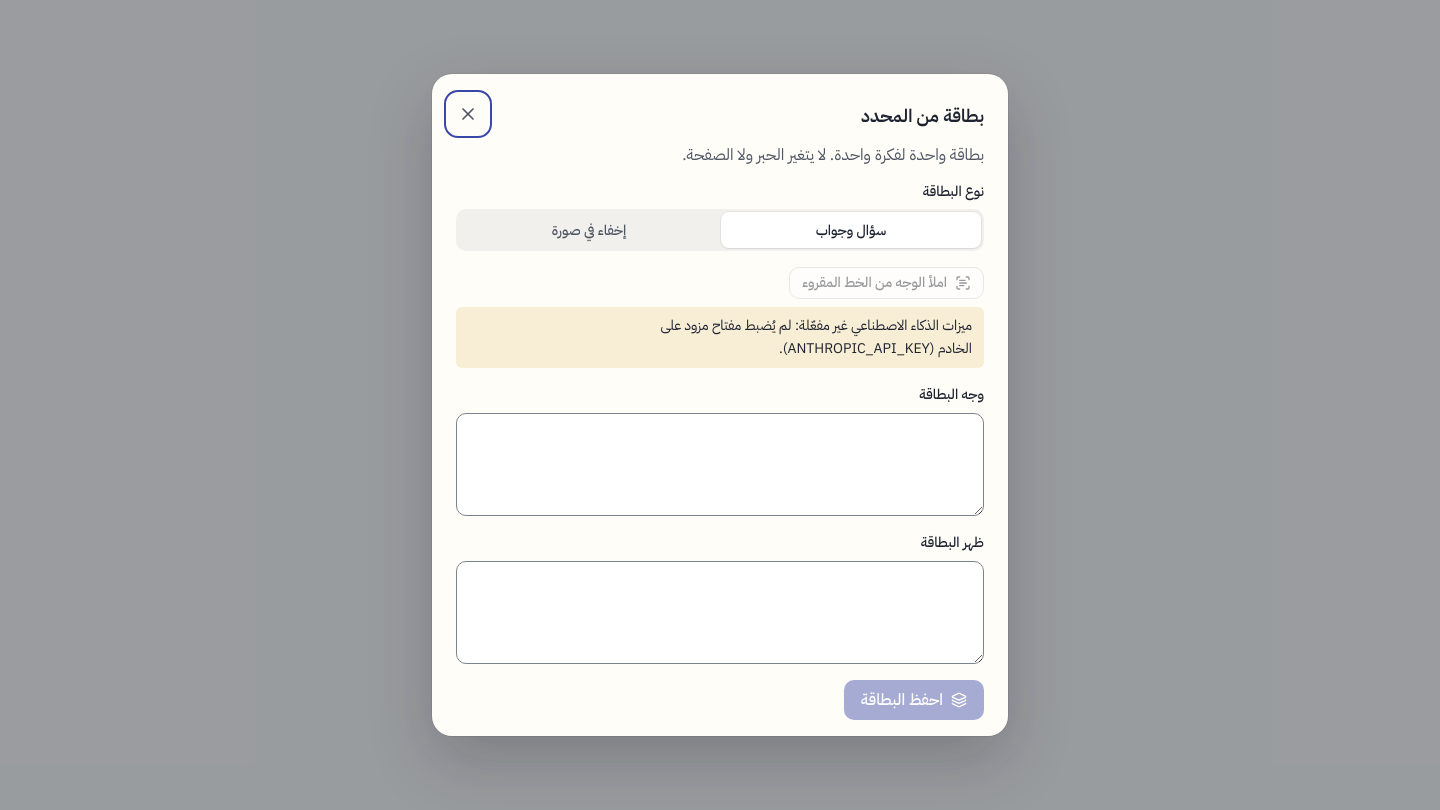
Test: H3 item 4 — a card from the lasso selection › no vision provider: «املأ من الخط المقروء» says why; the typed card is saved on this device as the owner's, with its source
The width and height of the screenshot is (1440, 810).
Expected: the button "املأ الوجه من الخط المقروء" is disabled, x1=789 y1=267 x2=984 y2=299
Expected: the text "ميزات الذكاء الاصطناعي غير مفعّلة: لم يُضبط مفتاح مزود على الخادم (ANTHROPIC_API_KEY)." is shown, x1=660 y1=315 x2=972 y2=359
In the text box labelled "وجه البطاقة": (720, 464) x1=456 y1=413 x2=984 y2=516, type "ما علامة Rovsing؟"
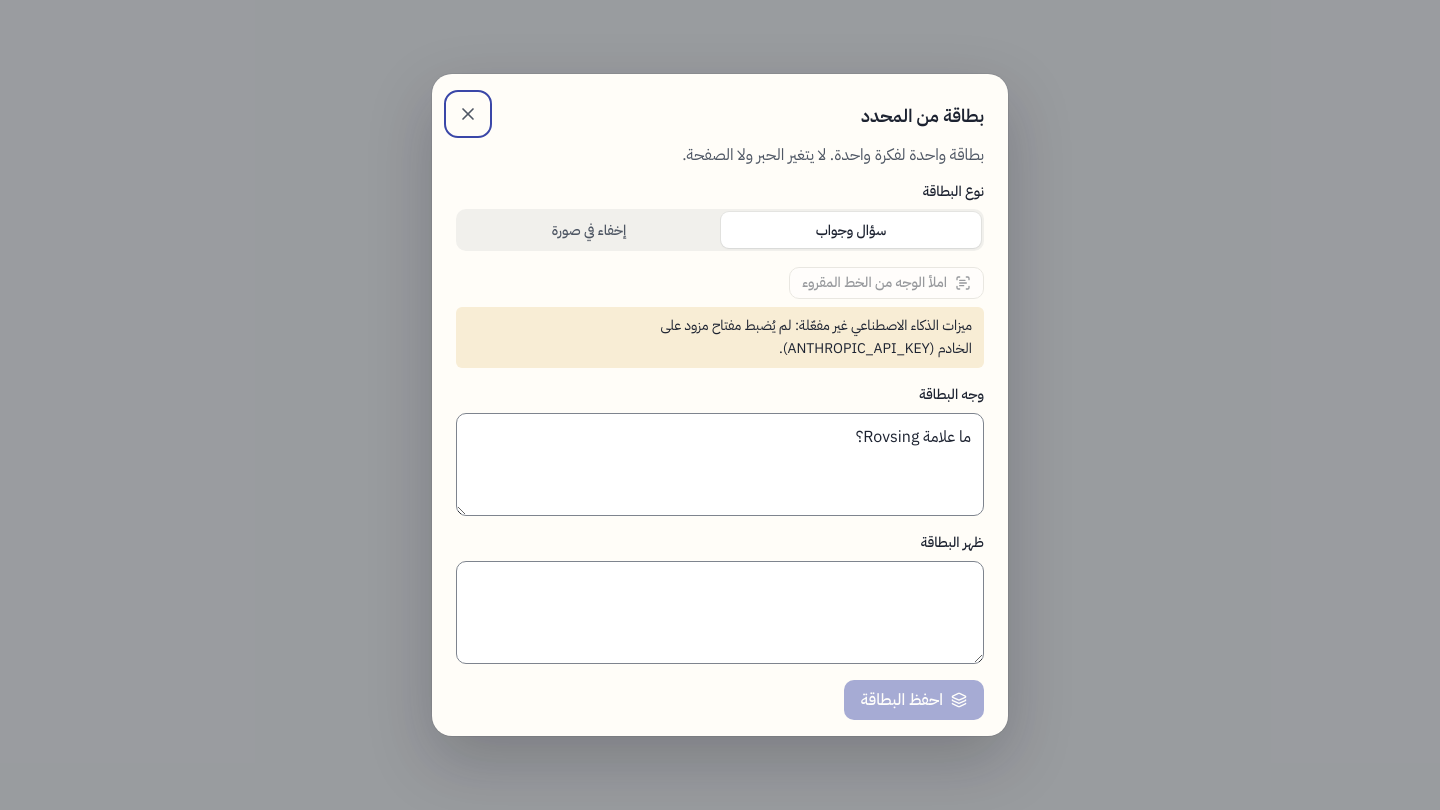
In the text box labelled "ظهر البطاقة": (720, 612) x1=456 y1=561 x2=984 y2=664, type "ألم في الحفرة الحرقفية اليمنى عند ضغط اليسرى"
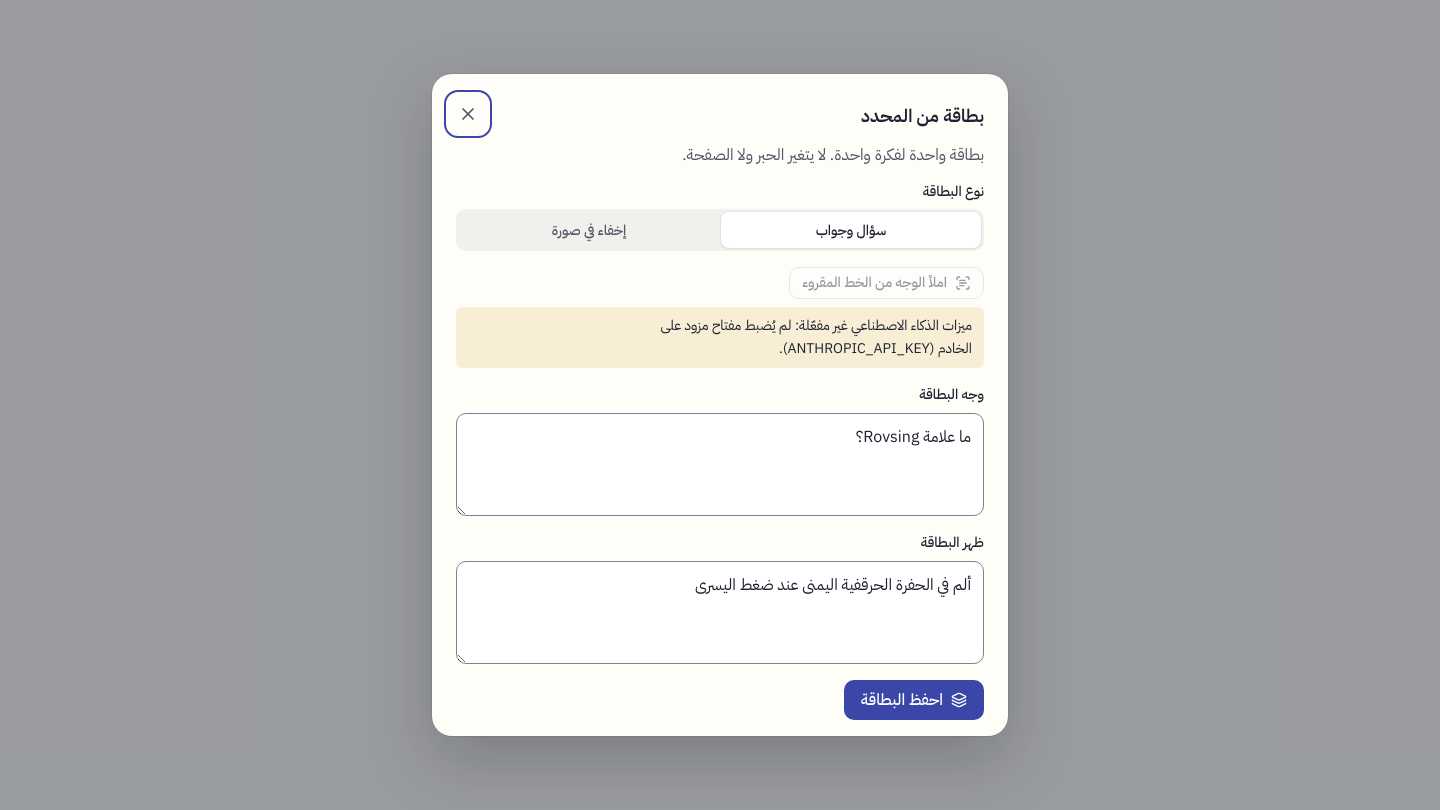
Click the button "احفظ البطاقة": (914, 700) x1=844 y1=680 x2=984 y2=720
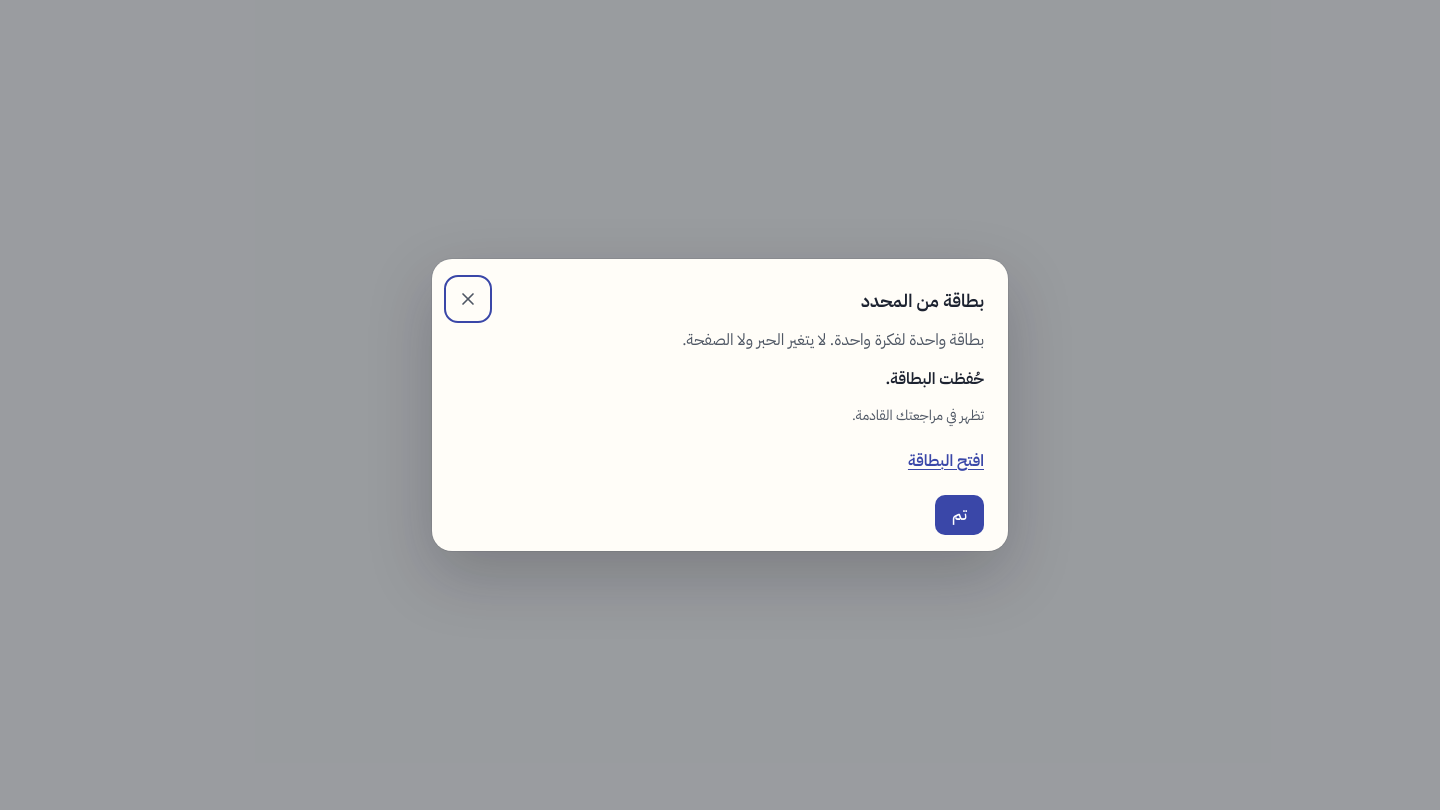
Expected: the text "حُفظت البطاقة." is shown, x1=885 y1=367 x2=984 y2=391
